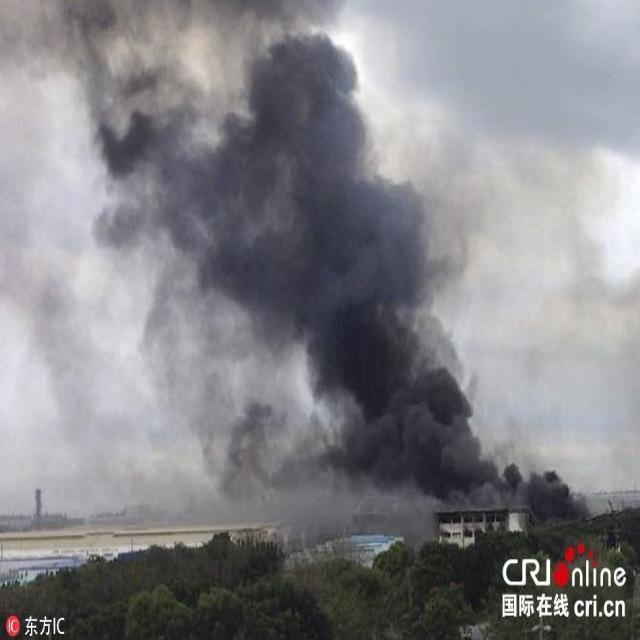Smoke: (0, 0, 625, 559)
